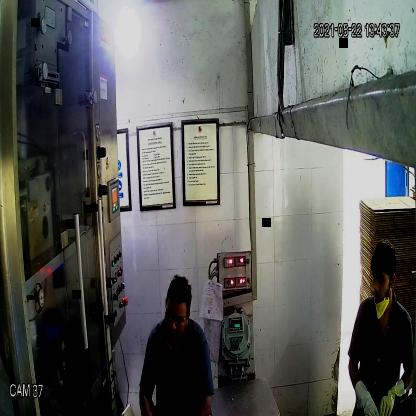goggles: (162, 304, 189, 330)
no_goggles: (368, 269, 393, 291)
